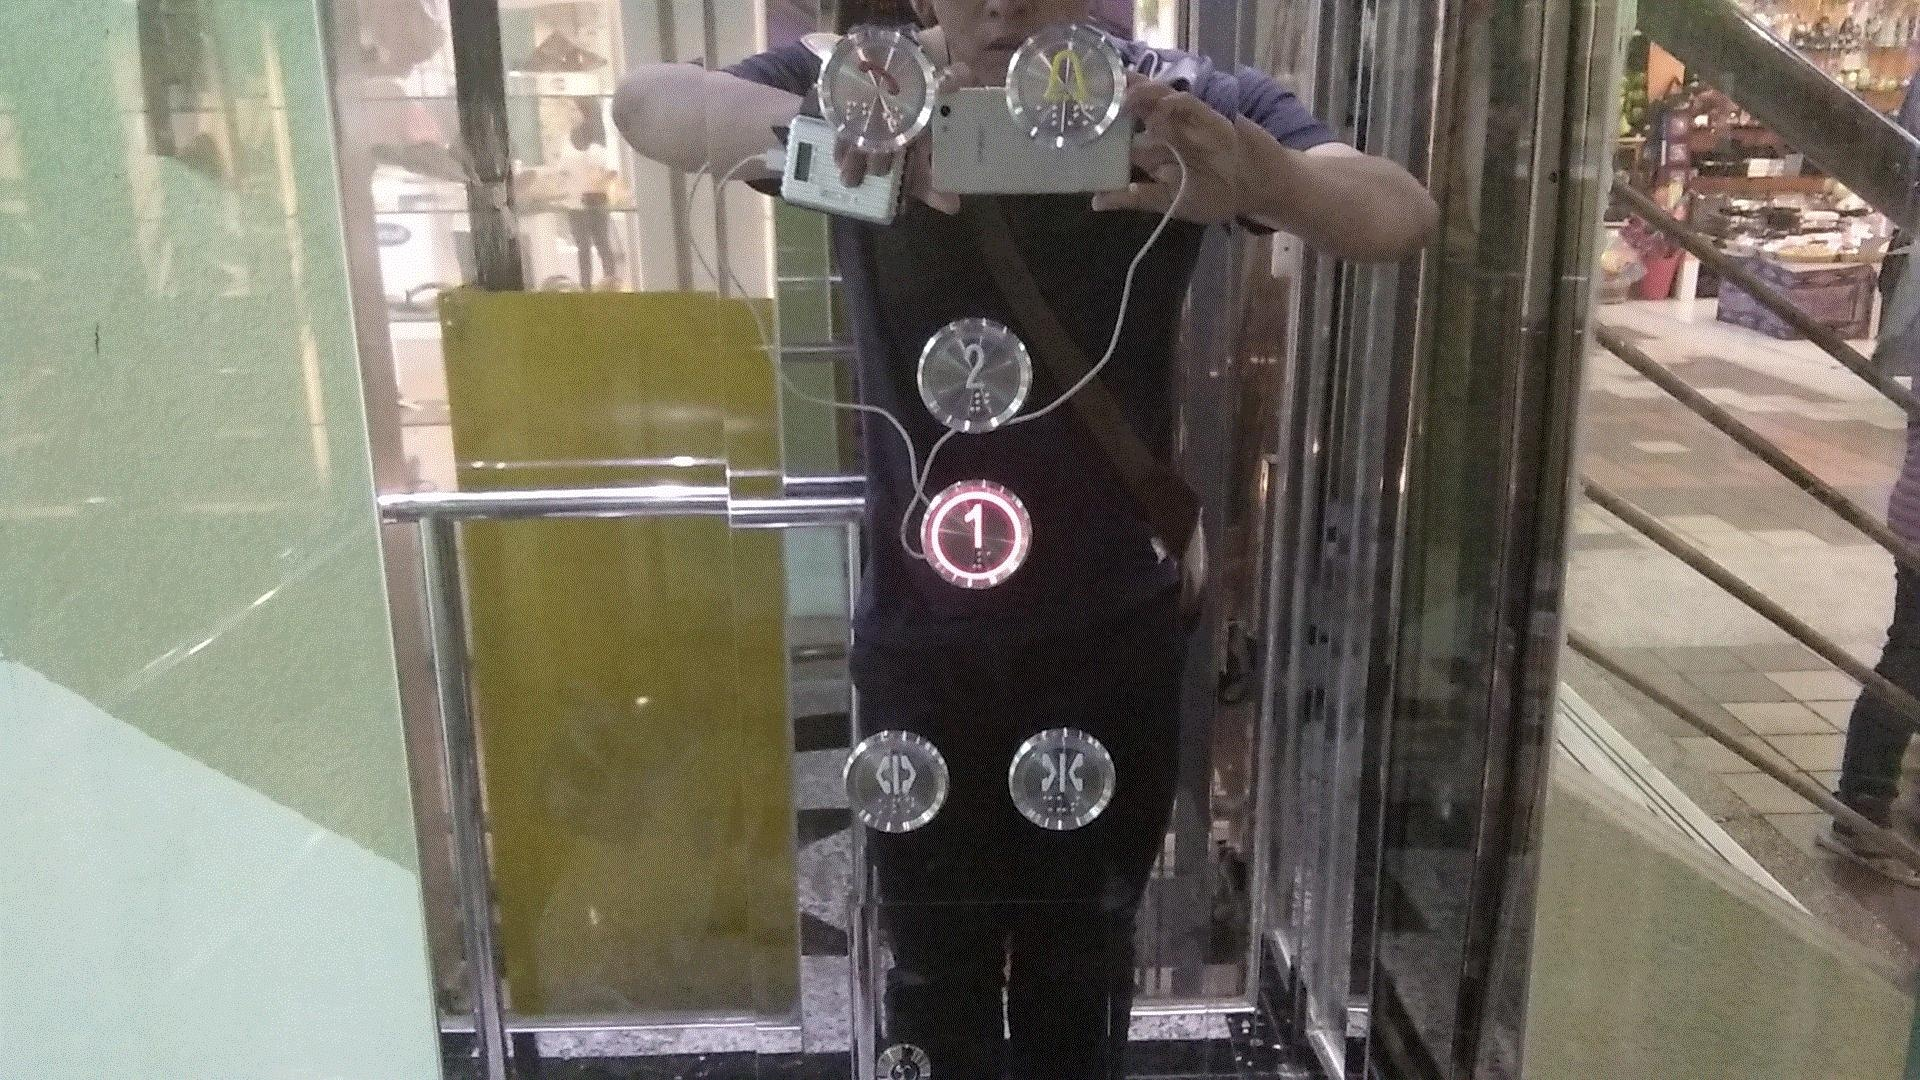1: (919, 473, 1034, 593)
2: (915, 313, 1035, 436)
alarm: (1005, 20, 1127, 148)
call: (815, 28, 938, 156)
close: (1005, 724, 1120, 836)
open: (840, 724, 953, 837)
